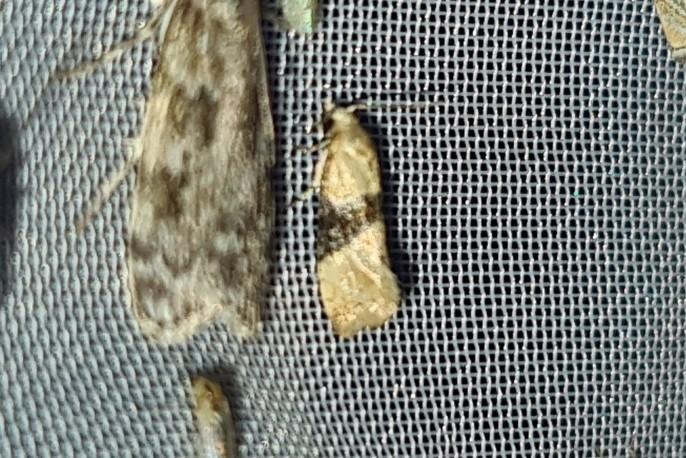Eupoecilia Ambiguella: (295, 95, 404, 340)
